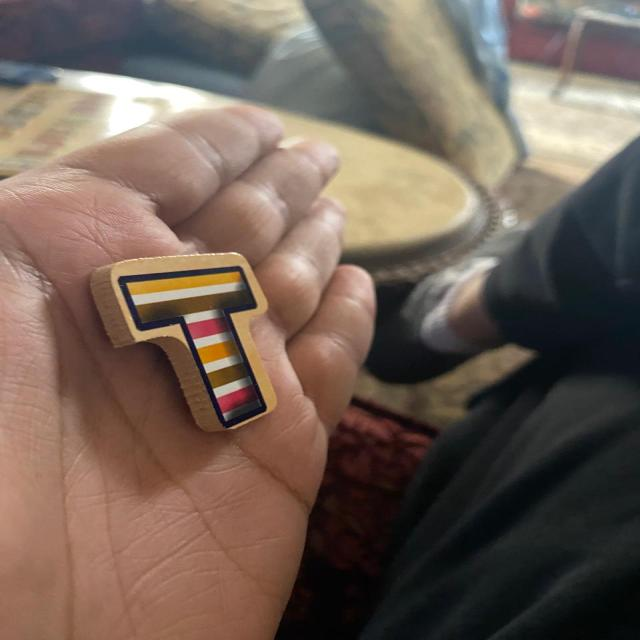T: (91, 252, 276, 431)
